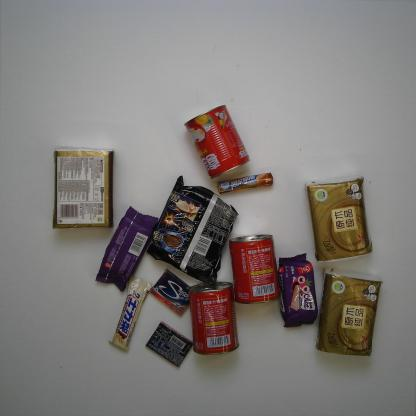Candy: (217, 171, 274, 195)
Canned Food: (184, 103, 252, 180), (188, 280, 240, 356), (229, 234, 281, 304)
Chocolate: (108, 276, 152, 353)
Dessert: (95, 206, 160, 293), (277, 252, 318, 328)
Gum: (145, 320, 194, 368), (149, 268, 191, 316)
Instant Noodles: (146, 174, 241, 286)
Tissue: (314, 265, 384, 359), (303, 175, 375, 264), (52, 145, 115, 230)
